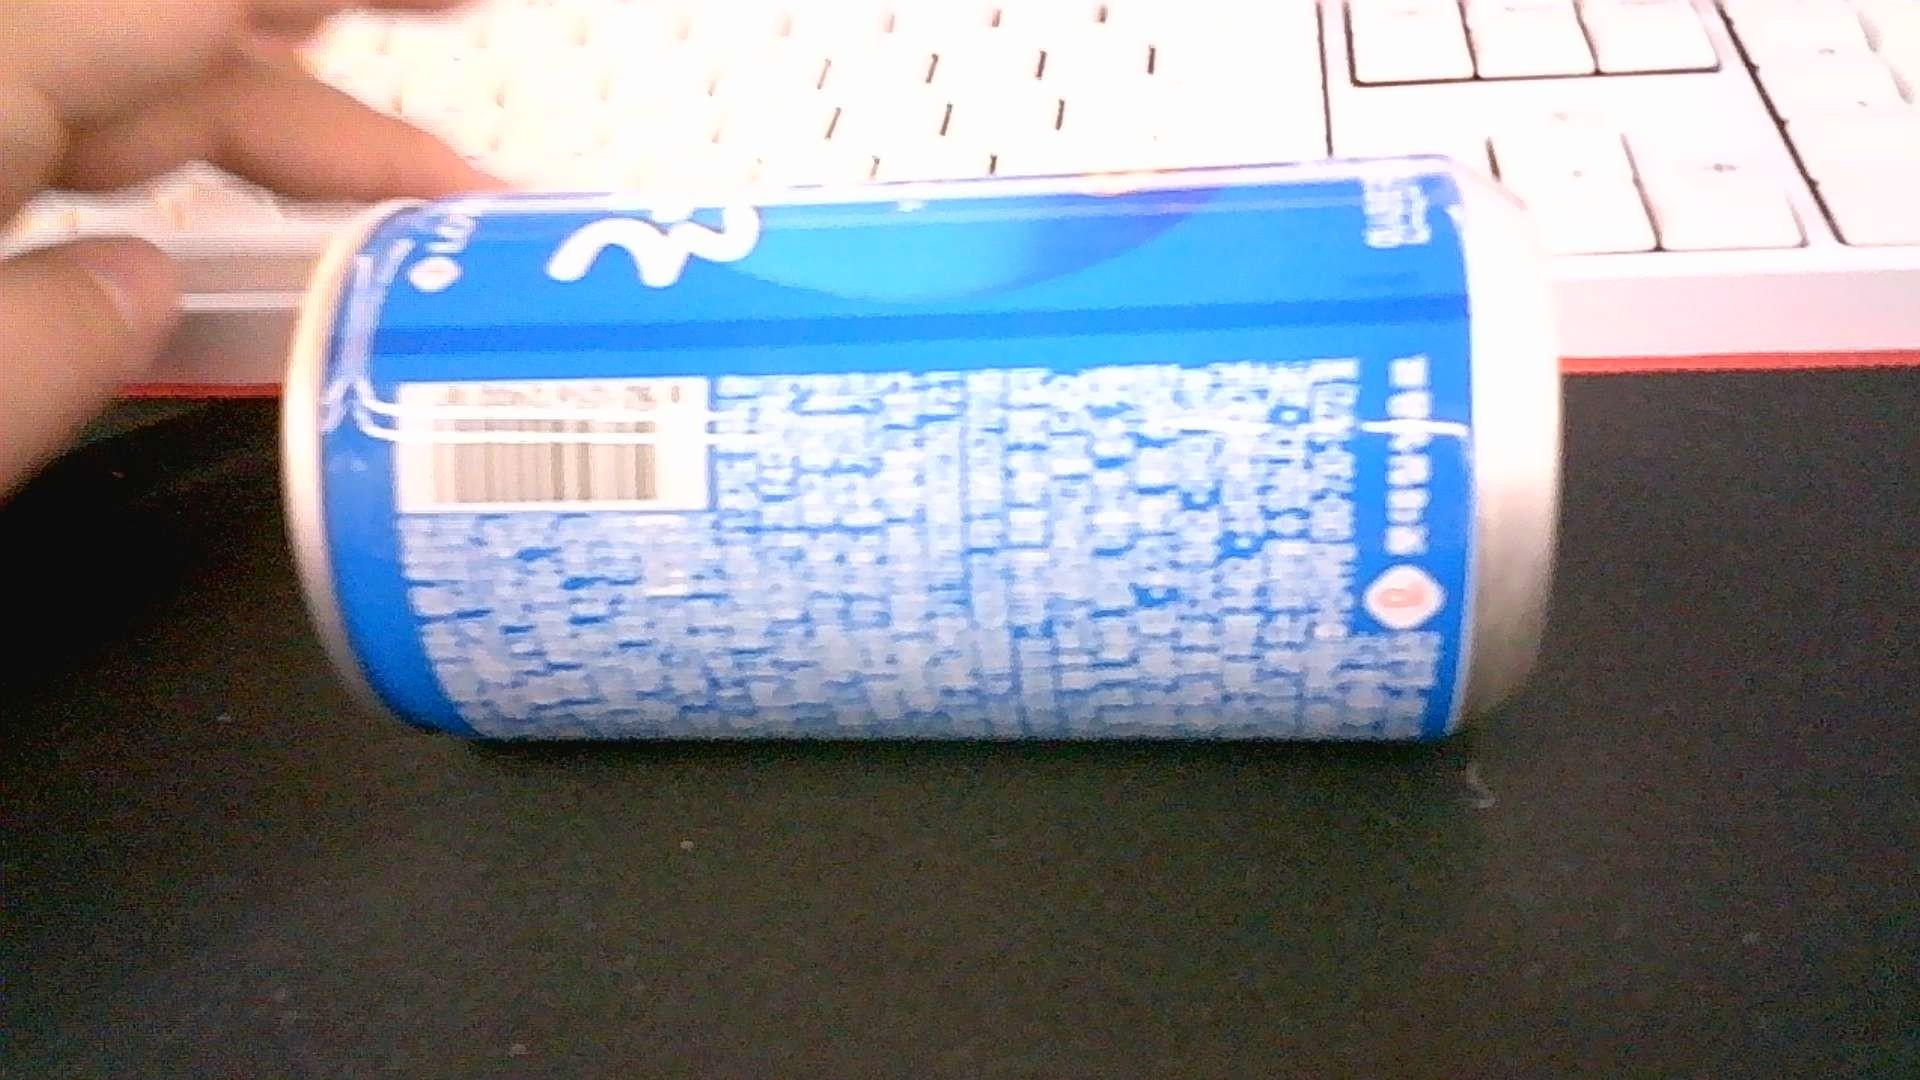letsbe: (282, 152, 1563, 744)
